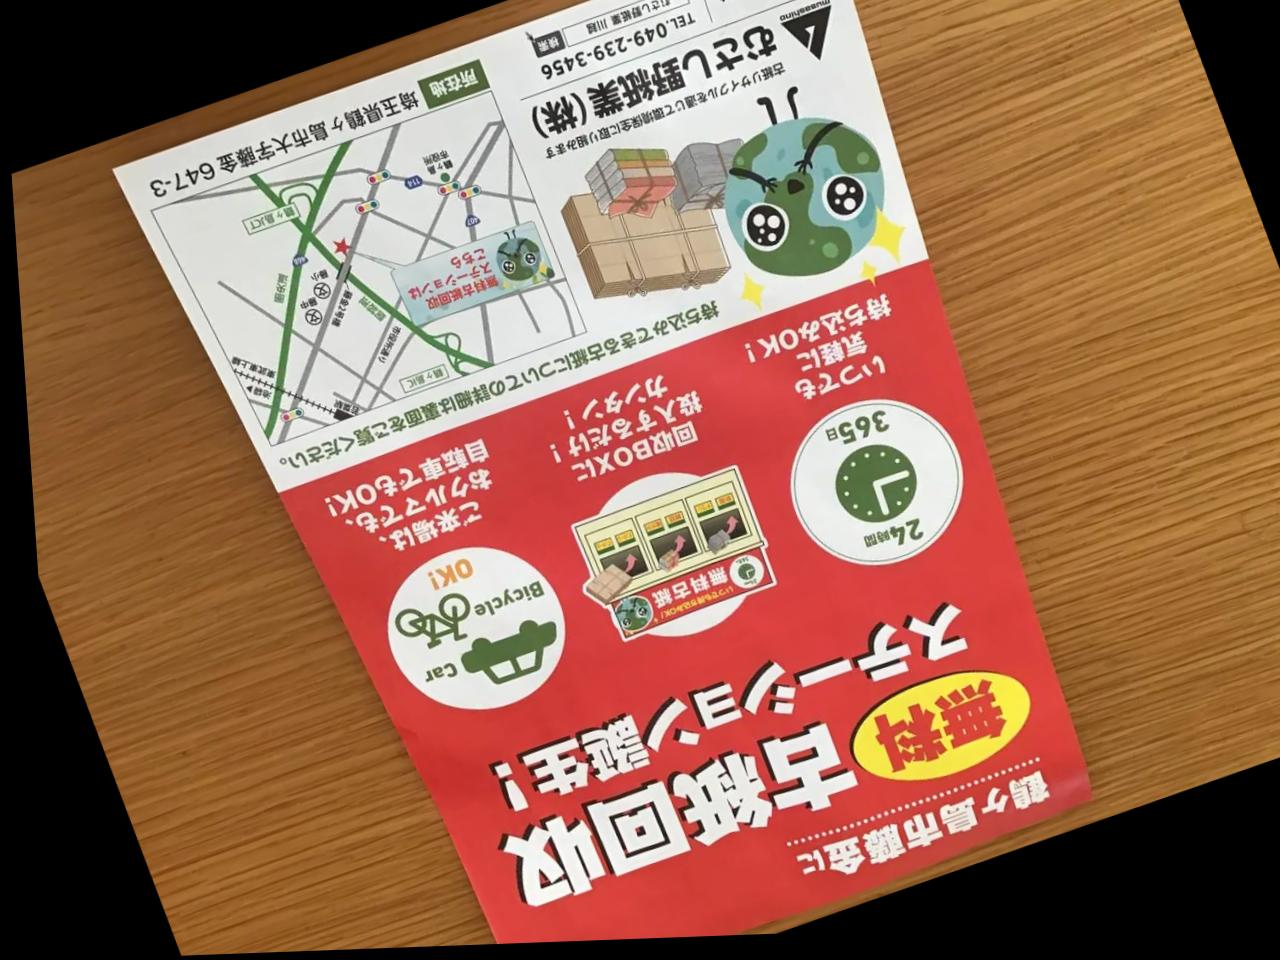paper: (15, 0, 1091, 940)
